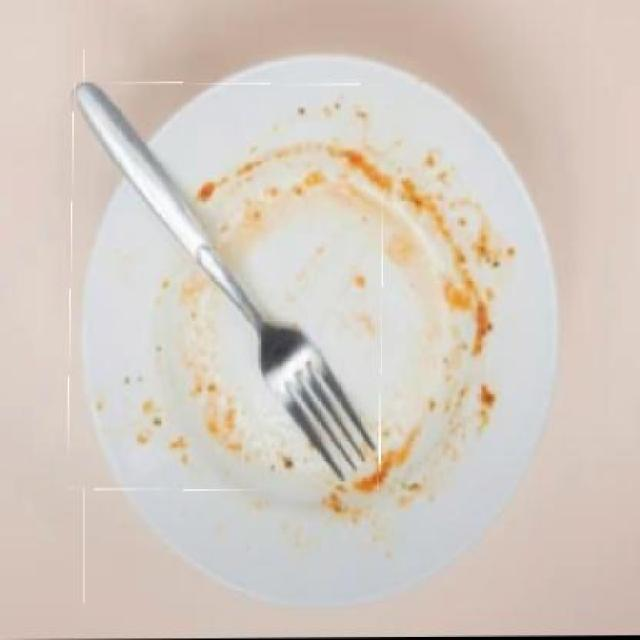Plate: (83, 46, 562, 606)
